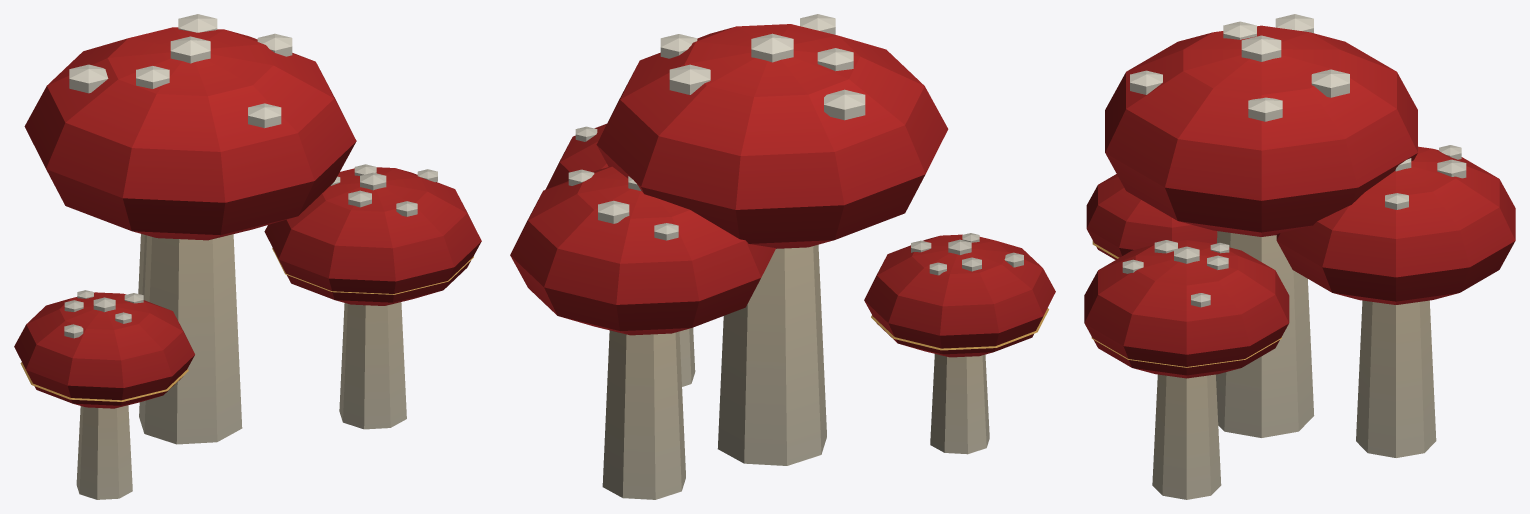
The model's file is toadstool_cluster.glb.
The picture shows the model from 3 angles, left to right: view 1: azimuth 30°, elevation 25°; view 2: azimuth 150°, elevation 25°; view 3: azimuth 270°, elevation 25°; orthographic projection. The views are drawn at different scales.
Visible parts, largest first — view 1: toadstool_cluster; view 2: toadstool_cluster; view 3: toadstool_cluster.
Part boxes in pixels (x1,y1,x2,y2): toadstool_cluster: (14, 14, 481, 499); toadstool_cluster: (510, 14, 1055, 499); toadstool_cluster: (1084, 14, 1515, 499).
Size of the model in its own units: 1.71 by 1.39 by 1.44.
